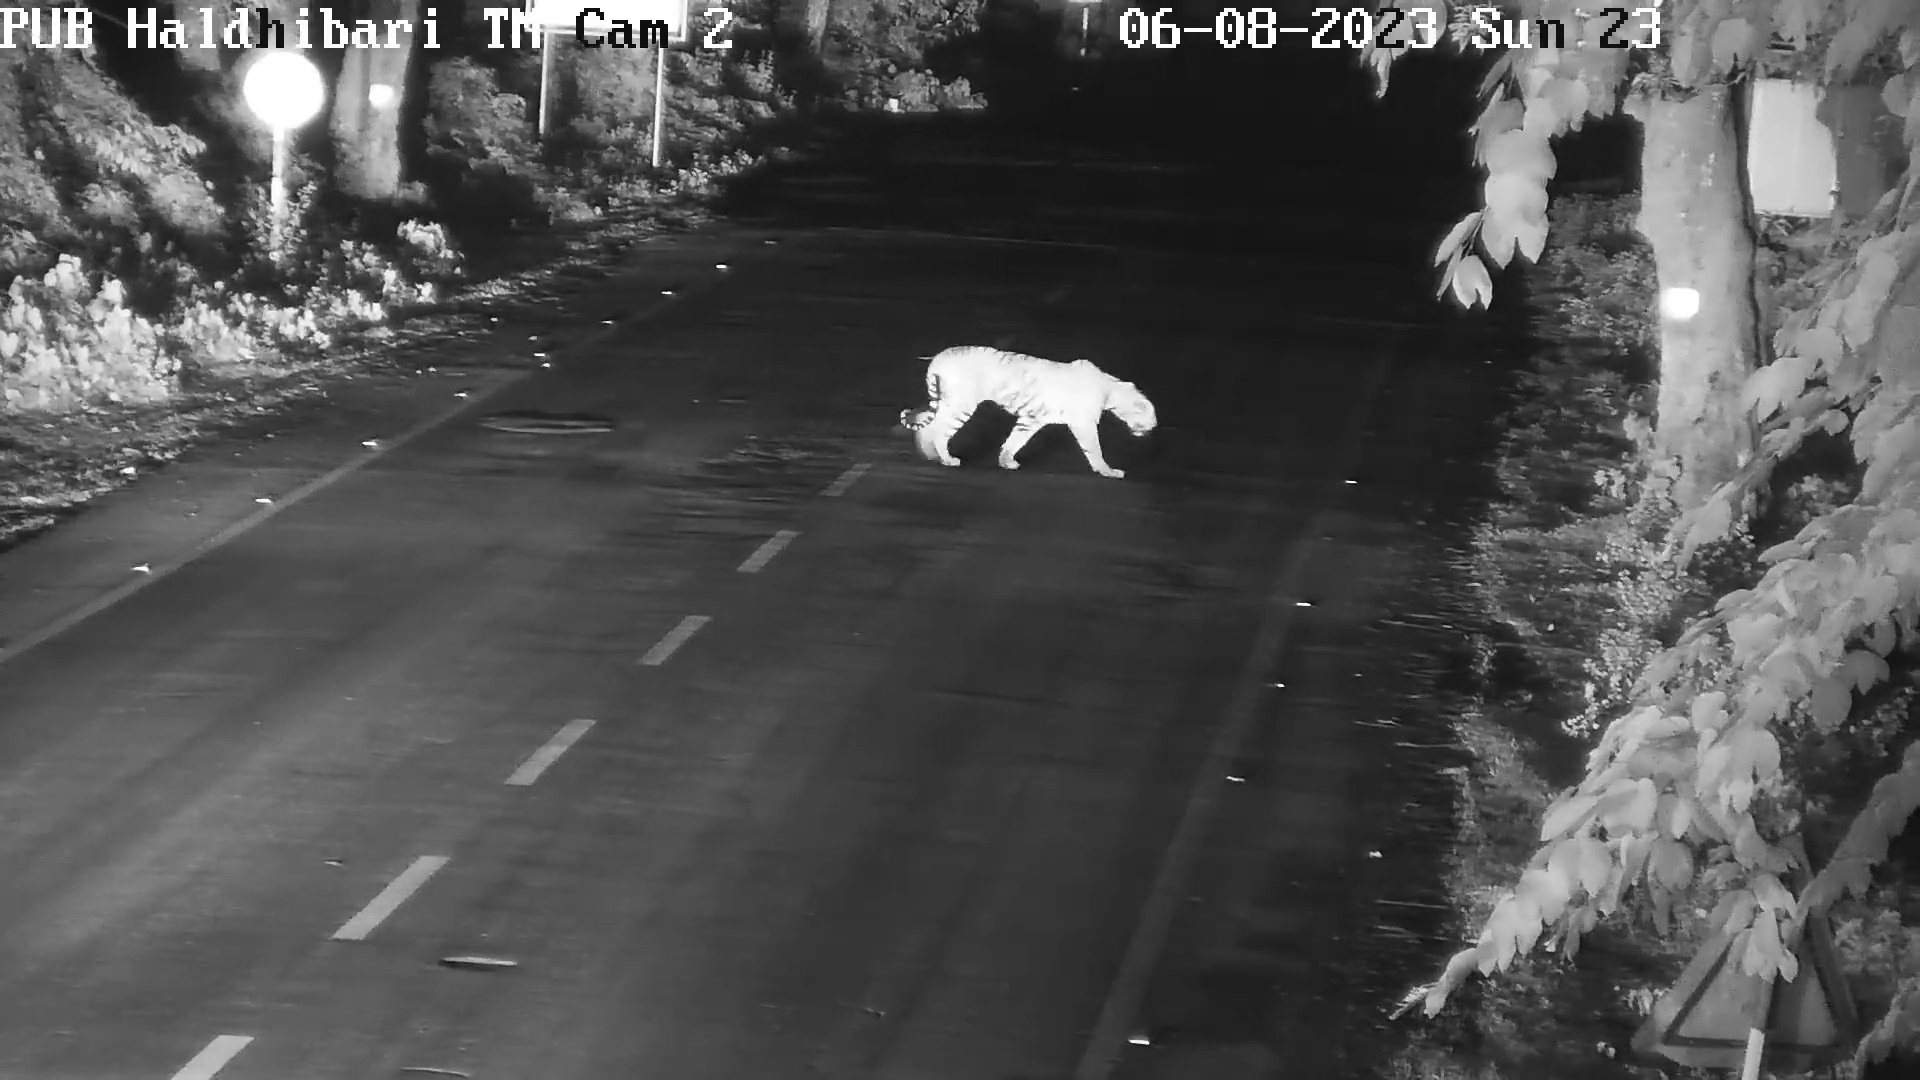tigers: (899, 342, 1163, 481)
